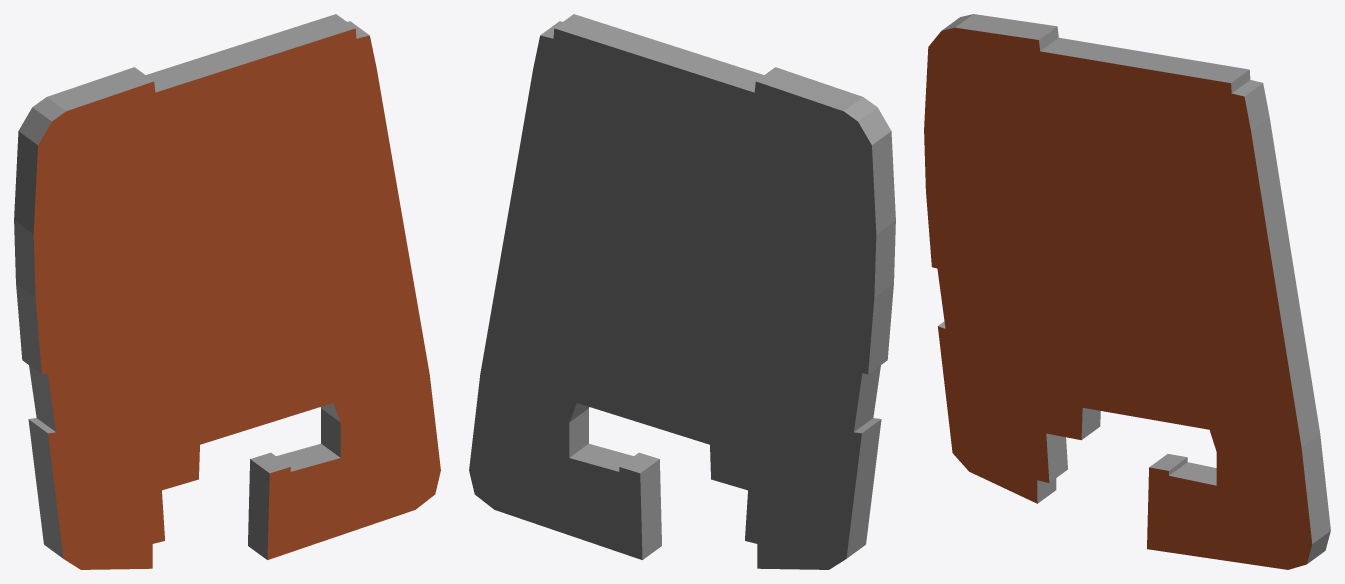
The model's file is construction_5601_assumed_A_Casa_h6m.obj.
3 views of the same model, side by side, from view 1: azimuth 30°, elevation 25°; view 2: azimuth 150°, elevation 25°; view 3: azimuth 330°, elevation 25° (orthographic). The views are drawn at different scales.
Parts seen in each view (by area): view 1: construction_5601_assumed_A_Casa; view 2: construction_5601_assumed_A_Casa; view 3: construction_5601_assumed_A_Casa.
Part boxes in pixels (x1,y1,x2,y2): construction_5601_assumed_A_Casa: [14, 14, 440, 569]; construction_5601_assumed_A_Casa: [469, 14, 895, 569]; construction_5601_assumed_A_Casa: [924, 14, 1330, 569].
Bounding box in the file's own units: 72.01 × 86.22 × 6.
